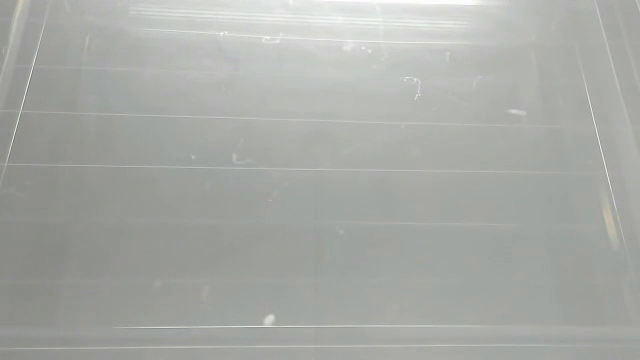alpha: (257, 306, 281, 333), (502, 104, 531, 120)
